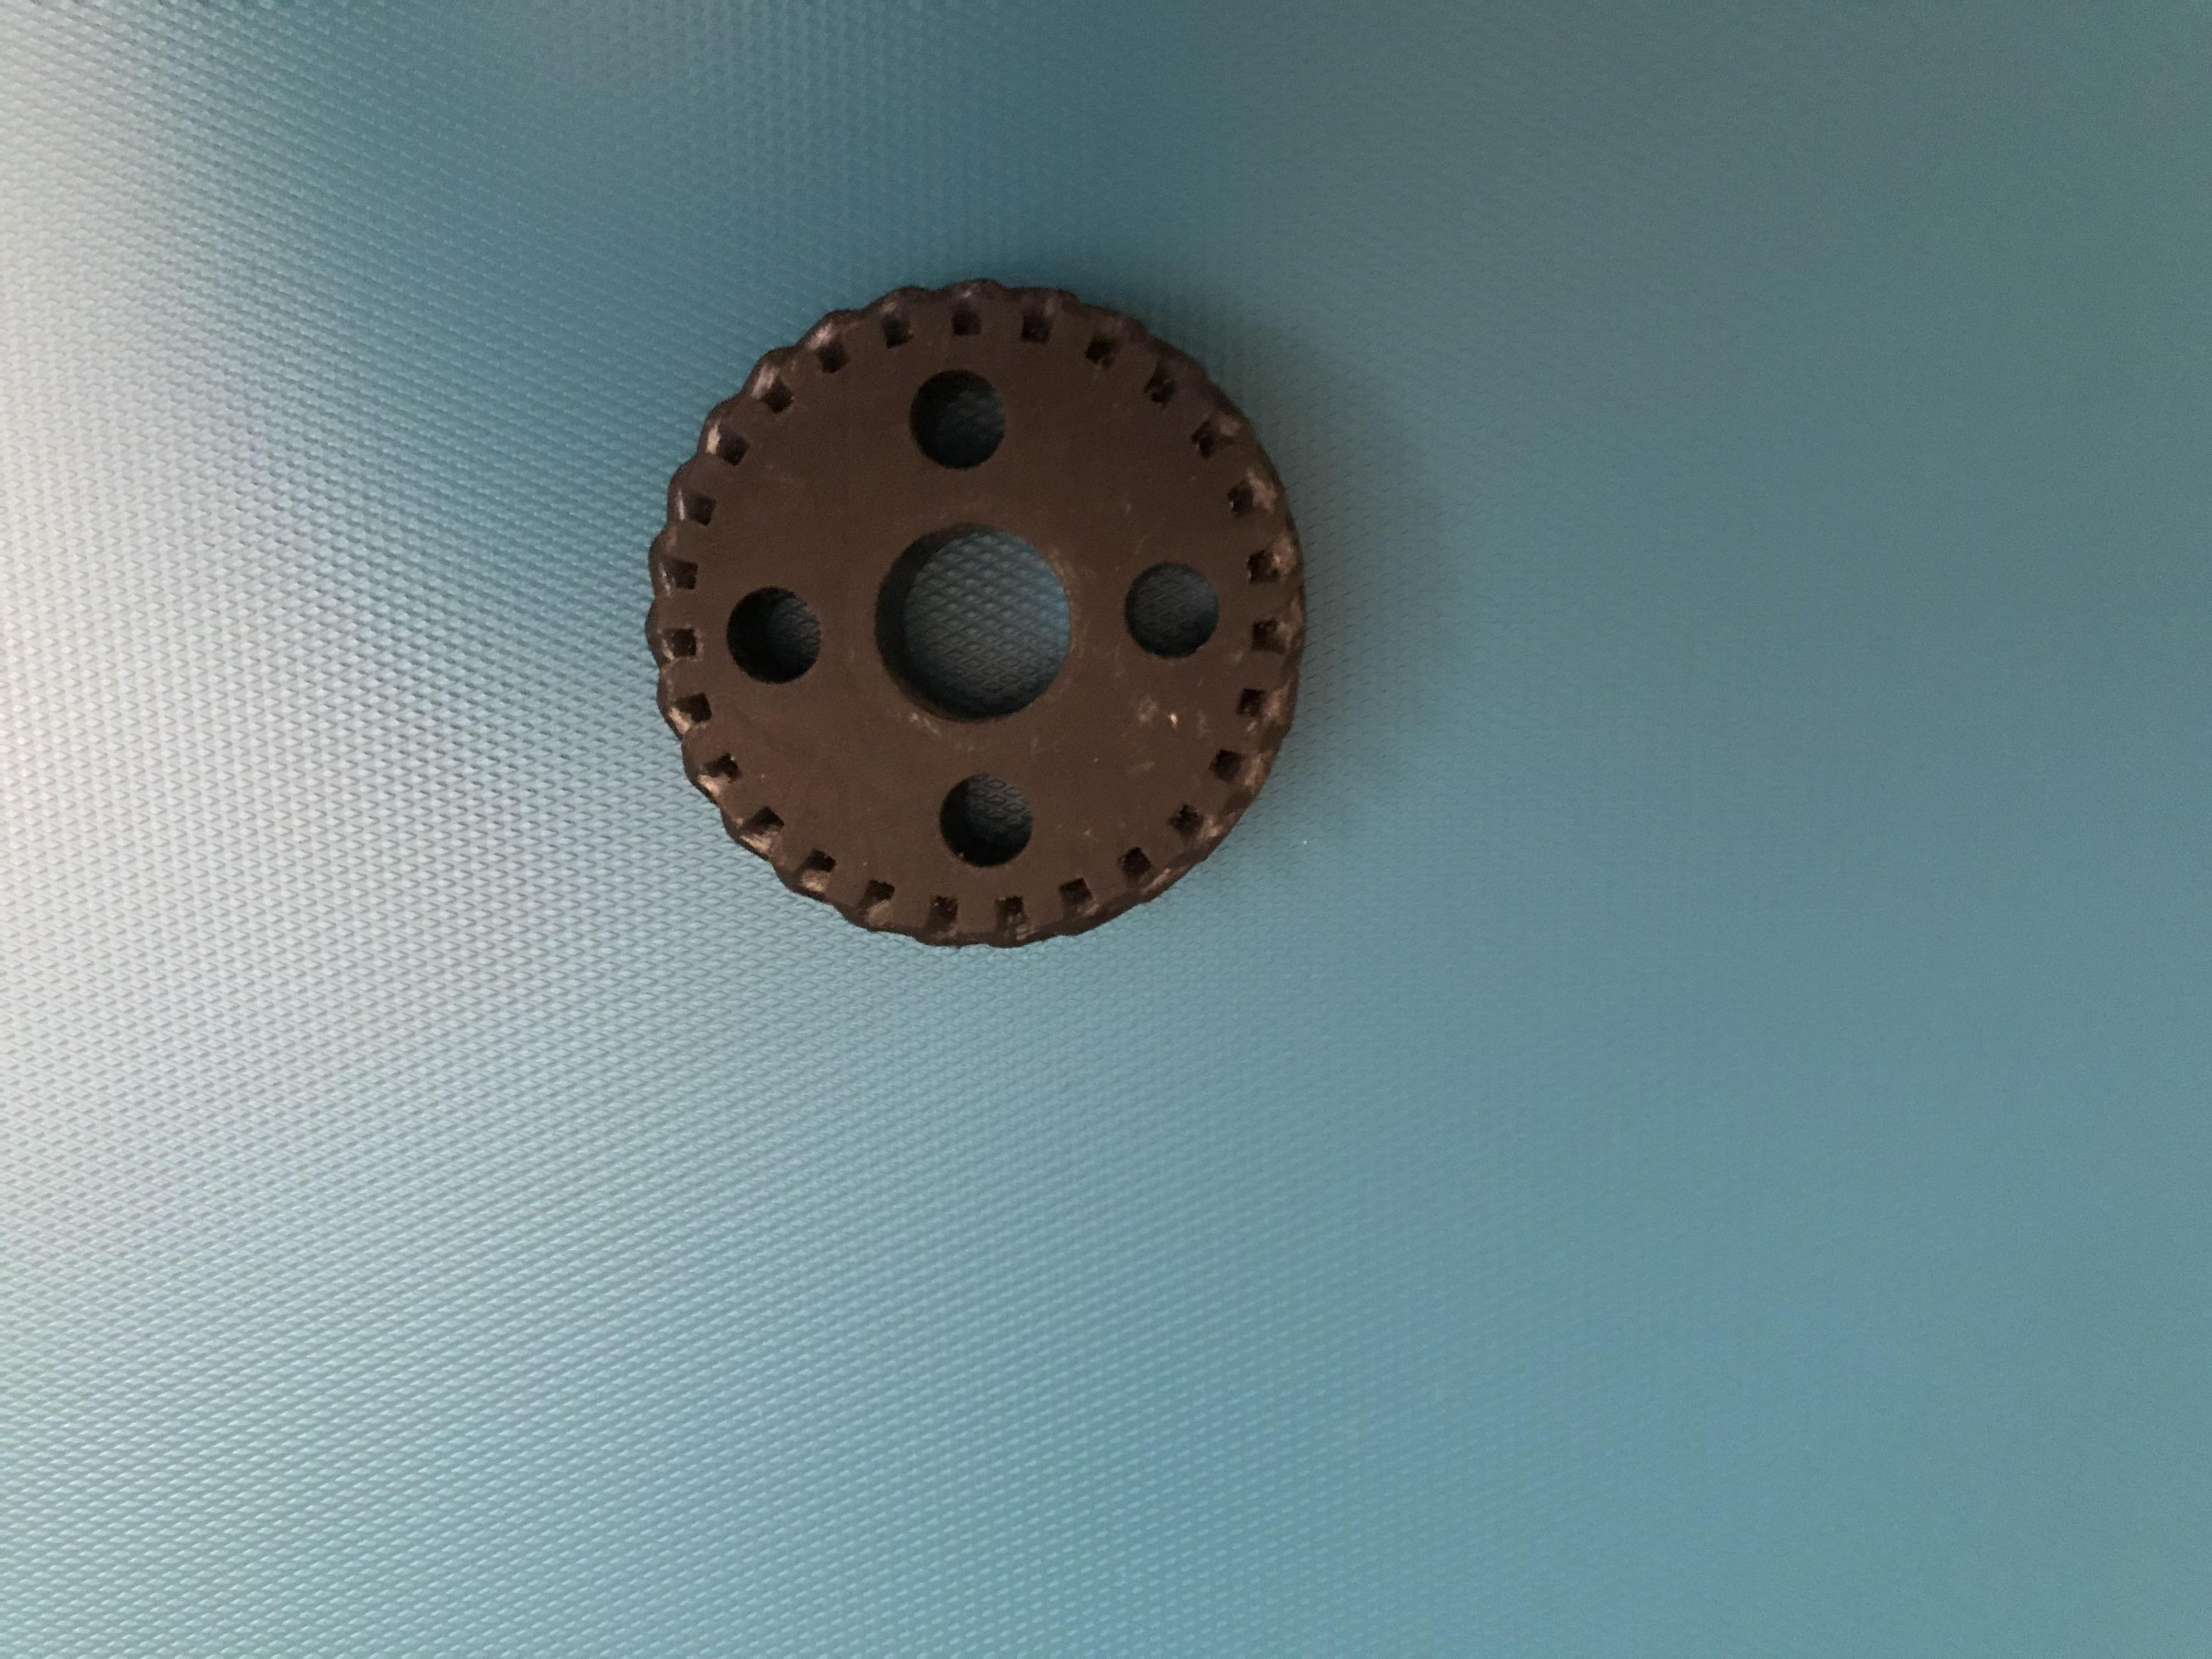Wheel: (634, 267, 1329, 969)
